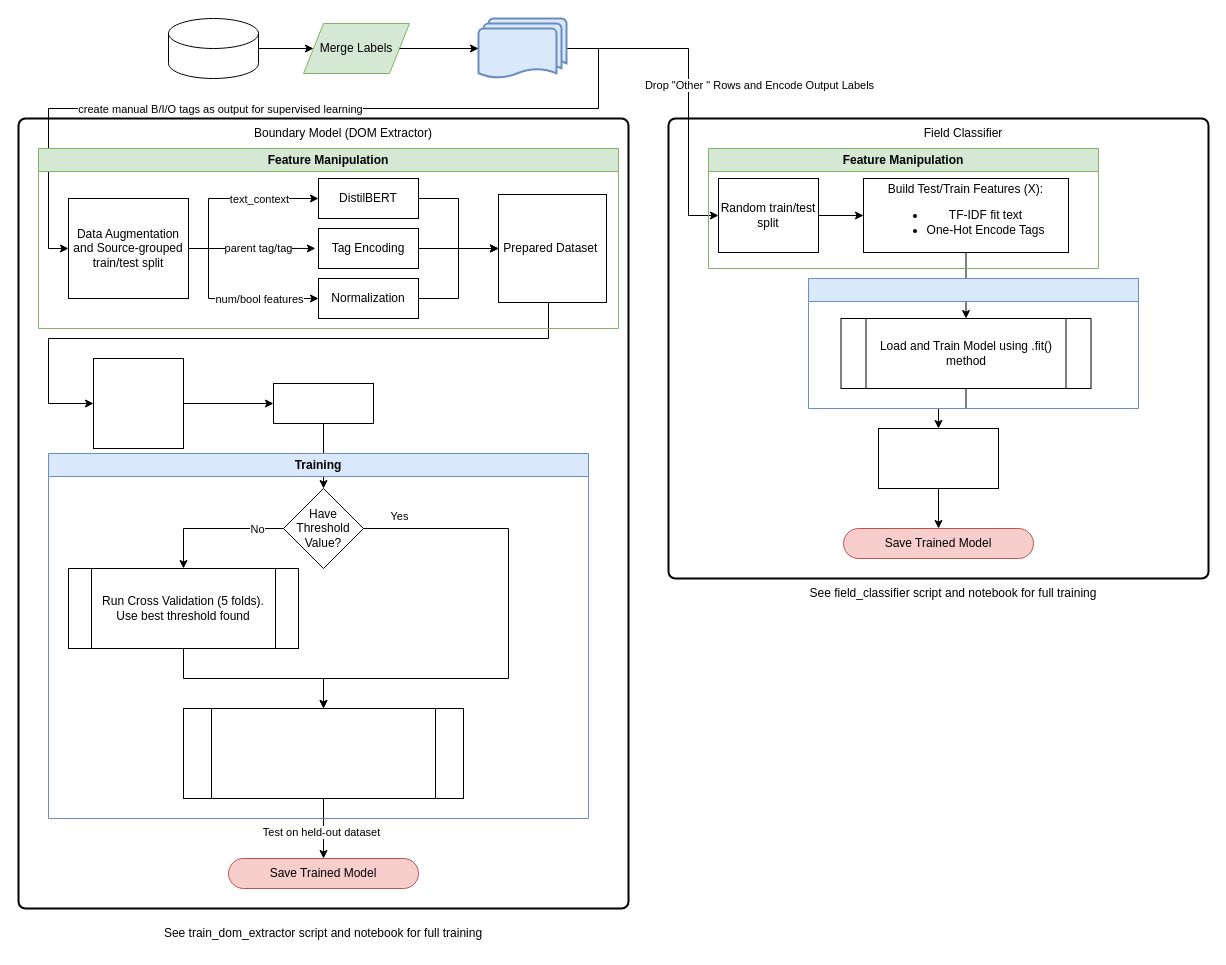
The diagram is 1226 pixels wide and 965 high, and some of its shapes have lost their labels. Each missing label, with the box of its shape:
Dataset: (168, 18, 258, 78)
Final Training with all data: Freeze BERT Weights Loop run_epoch function: (182, 708, 464, 798)
Gradient Boost Classifier: (808, 278, 1138, 408)
Initialize model: (272, 382, 374, 424)
Make Data Loader: (92, 358, 184, 448)
Pages and Nodes: (477, 17, 567, 79)
Run Metrics Check Using Test Data .predict() method: (878, 428, 998, 488)
